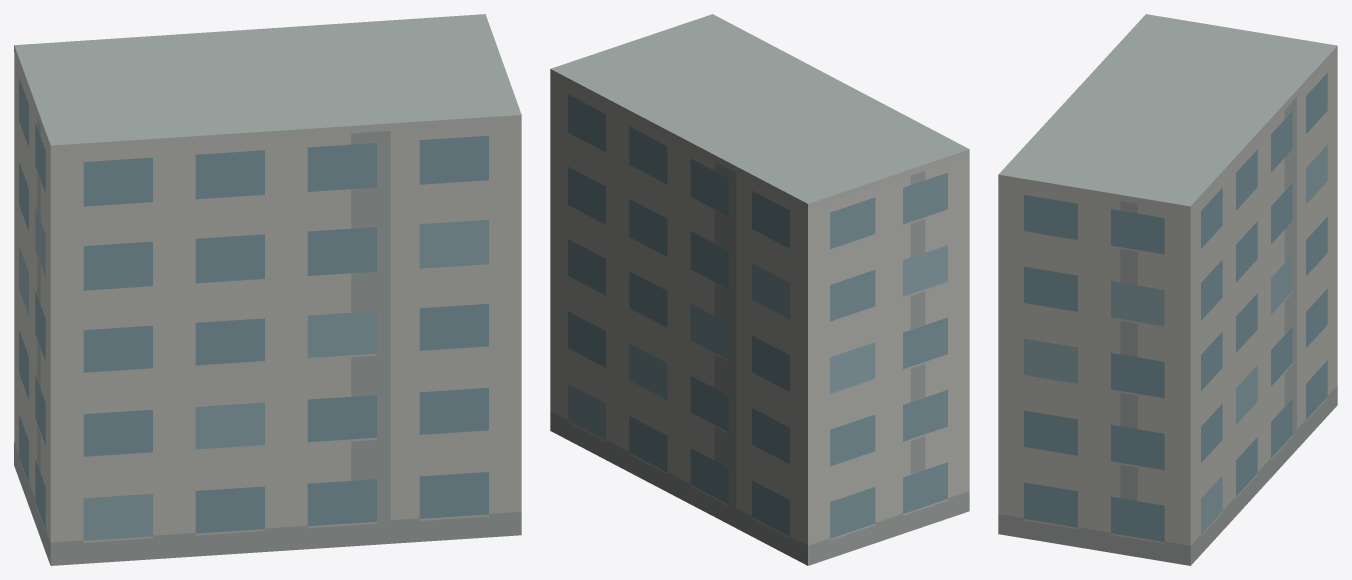
The model's file is survey-upis-32878829.glb.
3 views of the same model, side by side, from view 1: azimuth 30°, elevation 25°; view 2: azimuth 150°, elevation 25°; view 3: azimuth 270°, elevation 25° (orthographic). The views are drawn at different scales.
Parts seen in each view (by area): view 1: survey-upis-32878829.tmp; view 2: survey-upis-32878829.tmp; view 3: survey-upis-32878829.tmp.
Boxes of the visible parts, x1=… form: survey-upis-32878829.tmp: x1=14, y1=14, x2=521, y2=565; survey-upis-32878829.tmp: x1=550, y1=14, x2=969, y2=565; survey-upis-32878829.tmp: x1=998, y1=14, x2=1337, y2=565.
Size of the model in its own units: 15.96 by 13.9 by 11.9.
